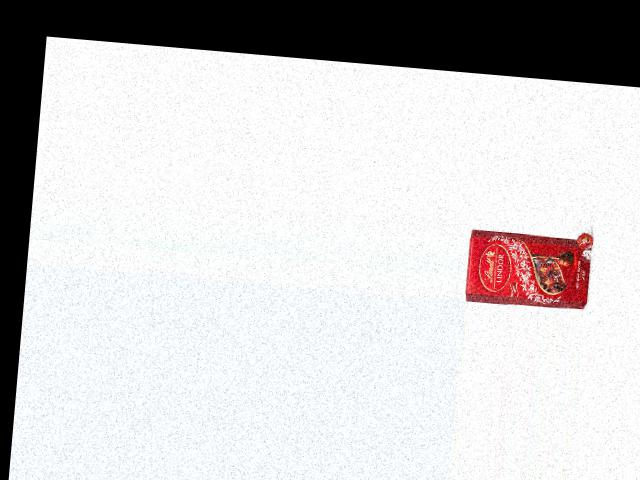chocolate: (465, 222, 592, 310)
